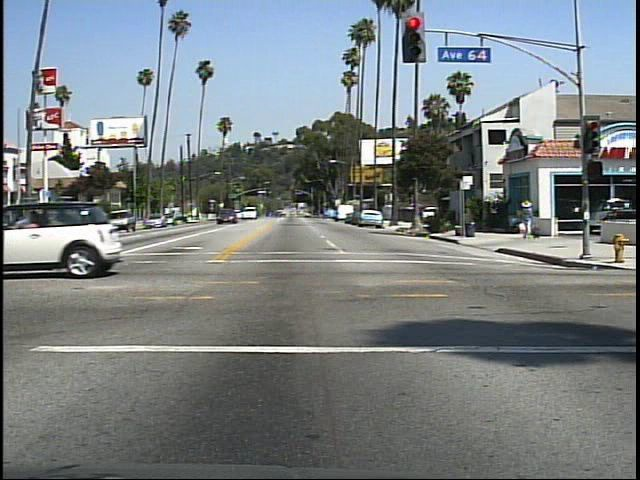person: (515, 194, 540, 243)
